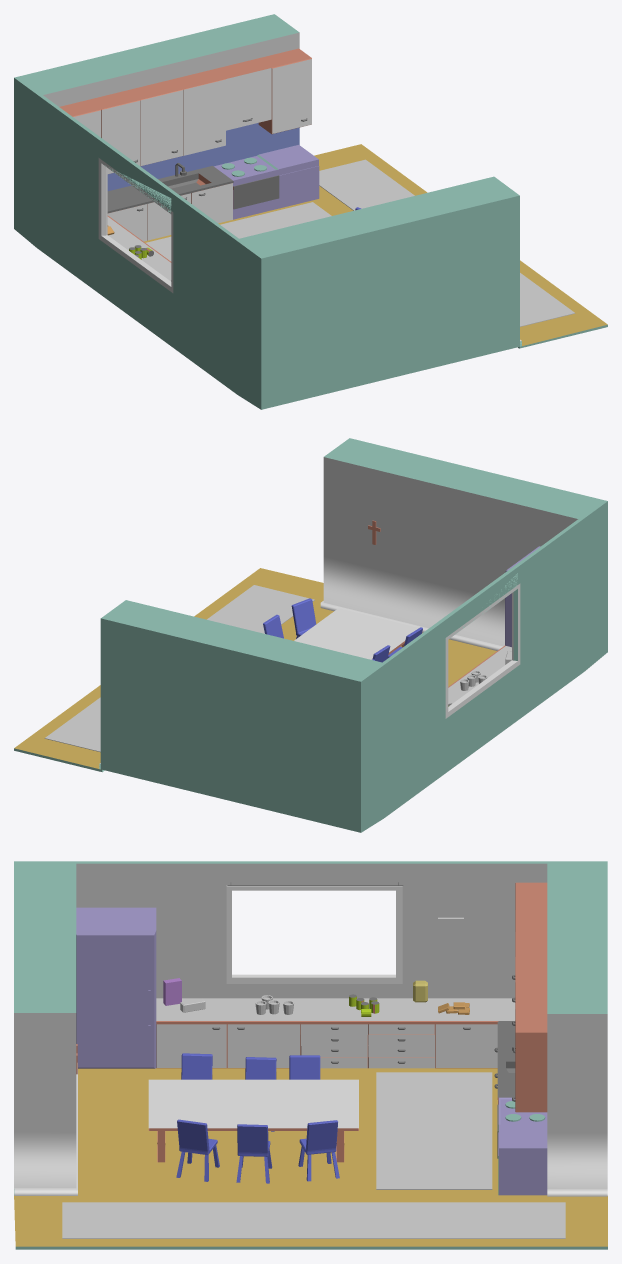
File: kitchen.fbx
3 views of the same model, one above another, from view 1: azimuth 30°, elevation 25°; view 2: azimuth 150°, elevation 25°; view 3: azimuth 270°, elevation 25° (orthographic). The views are drawn at different scales.
Parts seen in each view (by area): view 1: KitchenBase, rug 2, Cube; view 2: KitchenBase, rug 2, table, chair.001; view 3: KitchenBase, rug 2, Cube, table, chair.001, chair, chair.002, ristari, chair.005, chair.004, chair.003, flowerpots.
Part boxes in pixels (<box>): KitchenBase: <box>14,14,607,409</box>; rug 2: <box>319,159,575,326</box>; Cube: <box>146,202,331,261</box>; KitchenBase: <box>14,438,607,832</box>; rug 2: <box>44,585,314,752</box>; table: <box>294,608,419,659</box>; chair.001: <box>291,598,316,638</box>; KitchenBase: <box>14,861,607,1249</box>; rug 2: <box>62,1202,565,1238</box>; Cube: <box>376,1072,492,1189</box>; table: <box>148,1079,358,1162</box>; chair.001: <box>176,1119,219,1181</box>; chair: <box>298,1120,339,1181</box>; chair.002: <box>236,1124,272,1183</box>; ristari: <box>438,917,463,956</box>; chair.005: <box>181,1053,212,1079</box>; chair.004: <box>289,1055,320,1079</box>; chair.003: <box>245,1057,276,1131</box>; flowerpots: <box>255,995,293,1014</box>.
Size of the model in its own units: 832 by 352 by 1026.
